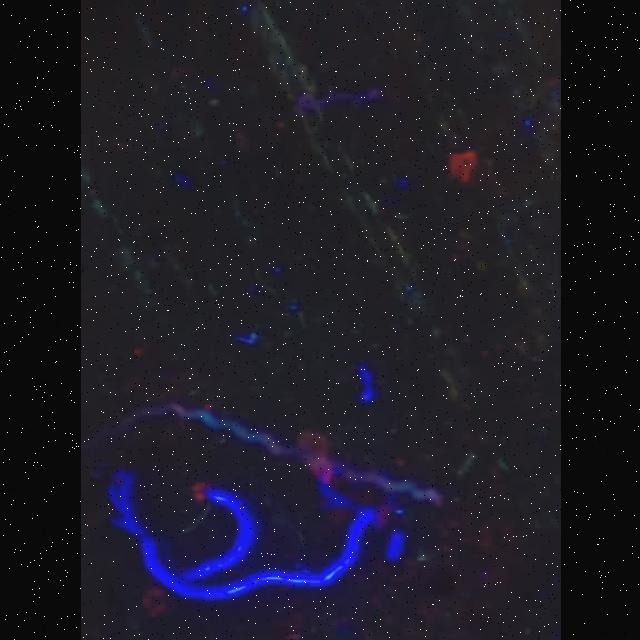Fragment: (448, 151, 478, 184)
